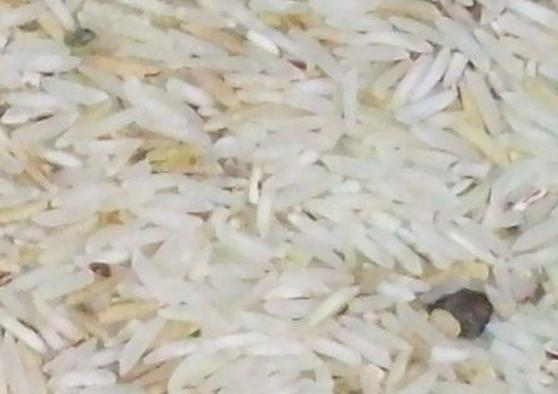rice: (105, 60, 448, 289)
